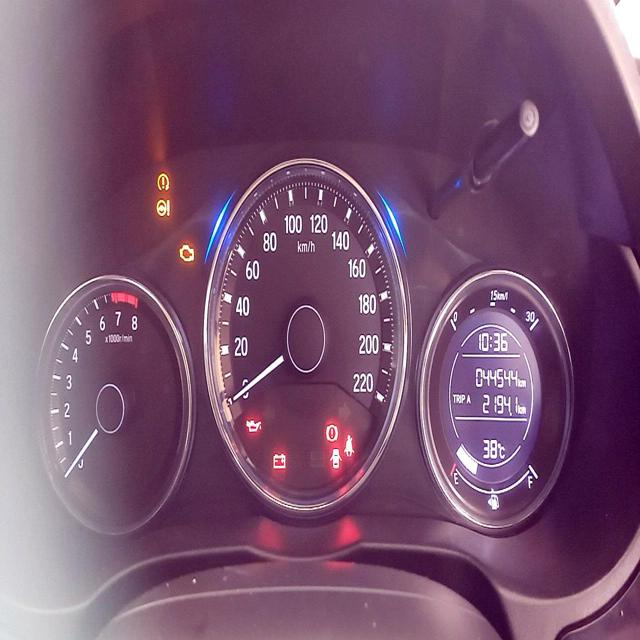odometer: (472, 363, 518, 392)
